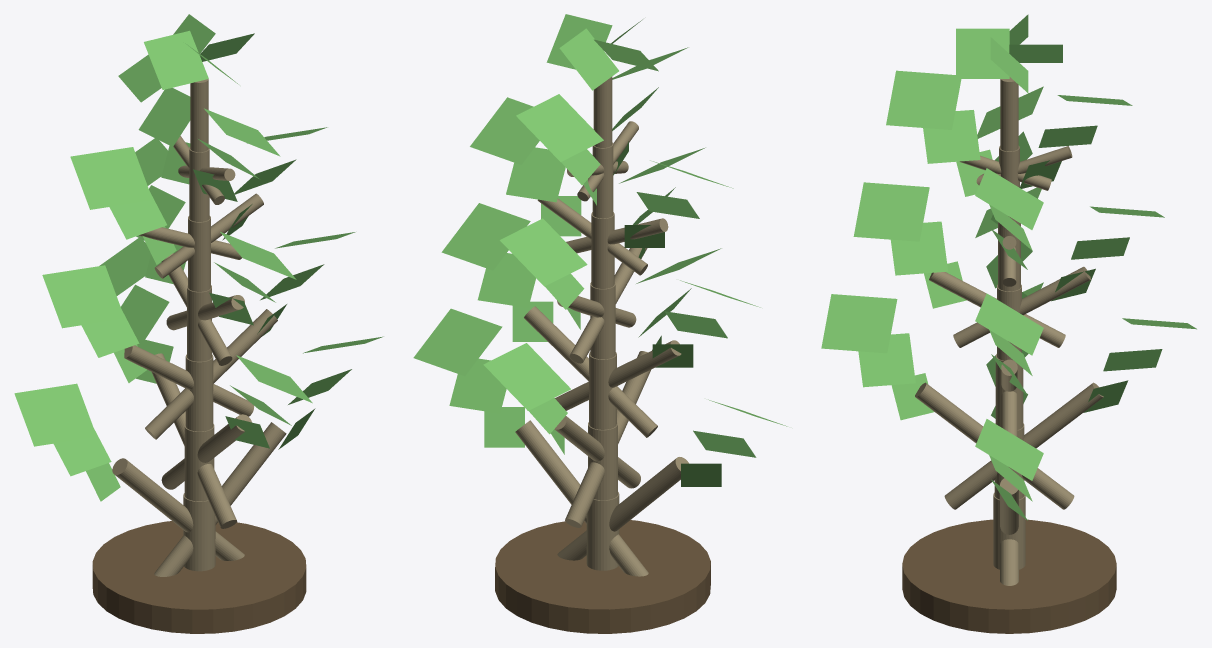
The model's file is plant_stage_4_full_vegetative.glb.
The picture shows the model from 3 angles, left to right: view 1: azimuth 30°, elevation 25°; view 2: azimuth 150°, elevation 25°; view 3: azimuth 270°, elevation 25°; orthographic projection.
Parts seen in each view (by area): view 1: Cylinder.019, Plane.015, Plane.027, Plane.003, Plane.038, Cylinder.001, Cylinder.002, Cylinder.007, Cylinder.008, Plane.031, Cylinder.004, Cylinder (+34 smaller); view 2: Cylinder.019, Plane, Plane.012, Plane.030, Plane.018, Plane.006, Cylinder.001, Plane.024, Cylinder.002, Plane.025, Cylinder.007, Plane.013 (+31 smaller); view 3: Cylinder.019, Plane.009, Plane.021, Plane.033, Cylinder.004, Plane.039, Cylinder.005, Plane.010, Plane.022, Plane.034, Plane.012, Plane.024 (+28 smaller).
Part boxes in pixels (x1=…): Cylinder.019: x1=92, y1=521, x2=306, y2=633; Plane.015: x1=42, y1=265, x2=124, y2=328; Plane.027: x1=70, y1=147, x2=152, y2=209; Plane.003: x1=14, y1=383, x2=96, y2=446; Plane.038: x1=144, y1=30, x2=208, y2=89; Cylinder.001: x1=154, y1=422, x2=286, y2=576; Cylinder.002: x1=112, y1=458, x2=244, y2=560; Cylinder.007: x1=145, y1=309, x2=277, y2=439; Cylinder.008: x1=124, y1=345, x2=253, y2=416; Plane.031: x1=138, y1=88, x2=190, y2=146; Cylinder.004: x1=151, y1=353, x2=237, y2=528; Cylinder: x1=183, y1=493, x2=215, y2=571; Cylinder.019: x1=495, y1=520, x2=710, y2=633; Plane: x1=413, y1=308, x2=502, y2=376; Plane.012: x1=441, y1=203, x2=530, y2=270; Plane.030: x1=516, y1=94, x2=603, y2=161; Plane.018: x1=500, y1=218, x2=587, y2=286; Plane.006: x1=483, y1=343, x2=570, y2=410; Cylinder.001: x1=515, y1=420, x2=648, y2=576; Plane.024: x1=470, y1=97, x2=539, y2=164; Cylinder.002: x1=557, y1=457, x2=688, y2=560; Plane.025: x1=506, y1=147, x2=565, y2=202; Cylinder.007: x1=524, y1=306, x2=657, y2=437; Plane.013: x1=477, y1=253, x2=535, y2=307; Cylinder.019: x1=902, y1=519, x2=1116, y2=633; Plane.009: x1=821, y1=294, x2=897, y2=353; Plane.021: x1=853, y1=182, x2=929, y2=241; Plane.033: x1=886, y1=70, x2=961, y2=129; Cylinder.004: x1=944, y1=382, x2=1103, y2=509; Plane.039: x1=956, y1=28, x2=1009, y2=78; Cylinder.005: x1=915, y1=382, x2=1074, y2=509; Plane.010: x1=858, y1=333, x2=915, y2=387; Plane.022: x1=890, y1=221, x2=948, y2=275; Plane.034: x1=923, y1=110, x2=980, y2=163; Plane.012: x1=975, y1=293, x2=1043, y2=355; Plane.024: x1=975, y1=168, x2=1043, y2=229.
Size of the model in its own units: 0.3048 by 0.4558 by 0.2806.
